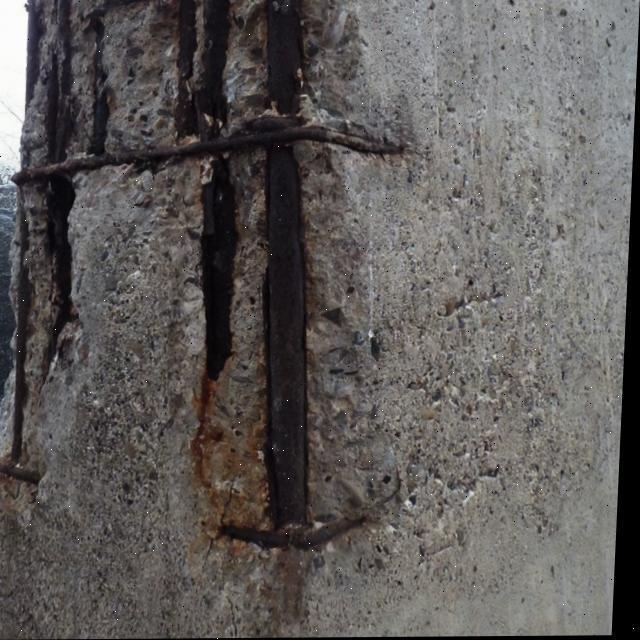D0w0: (2, 0, 405, 565)
